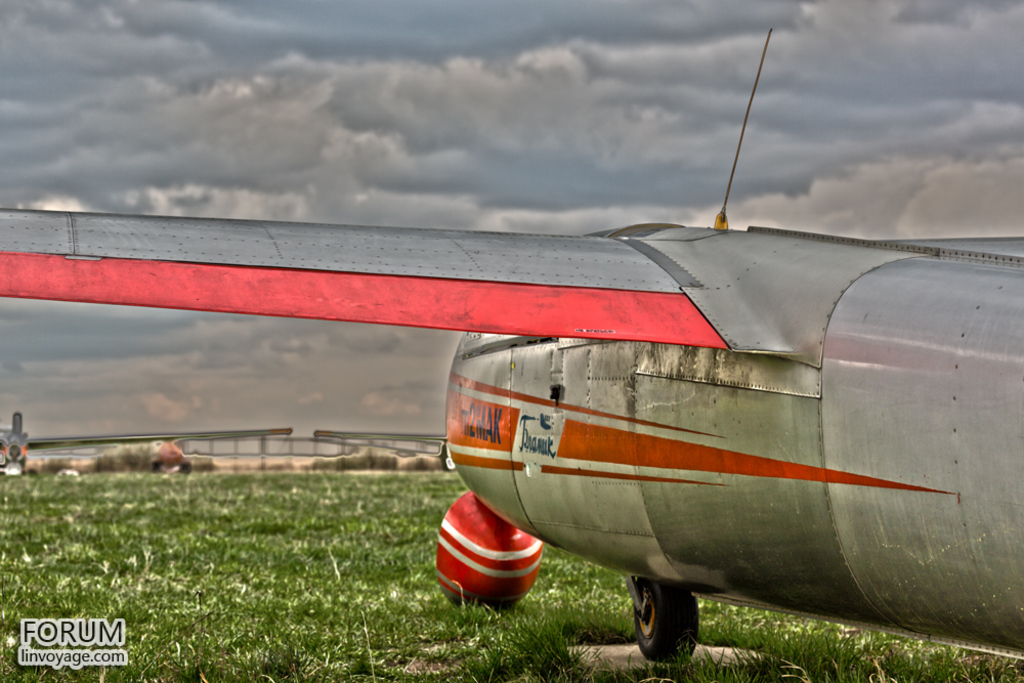Ball: (435, 495, 548, 611)
